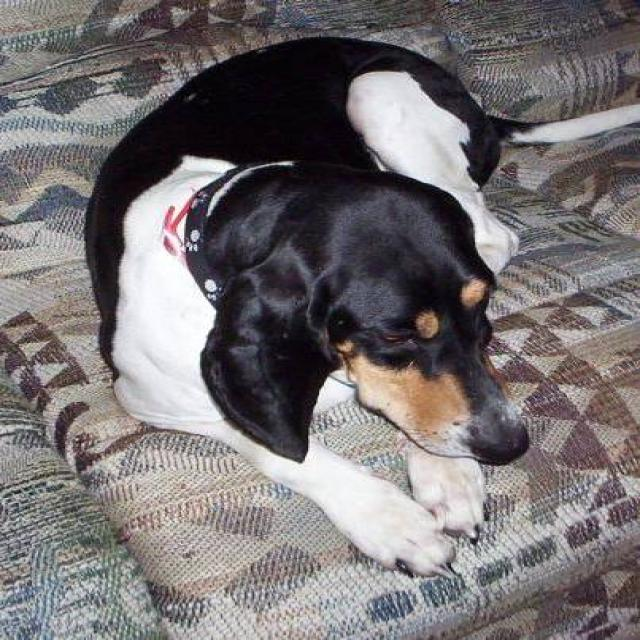dogs: (52, 18, 542, 608)
